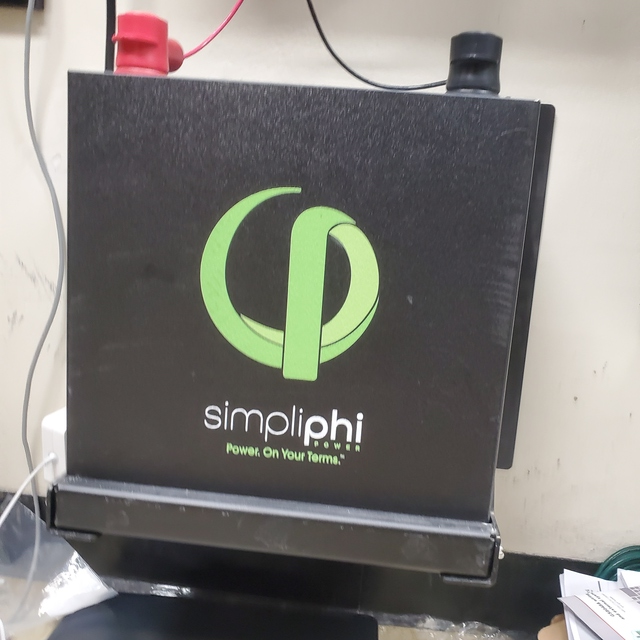battery: (46, 11, 555, 595)
